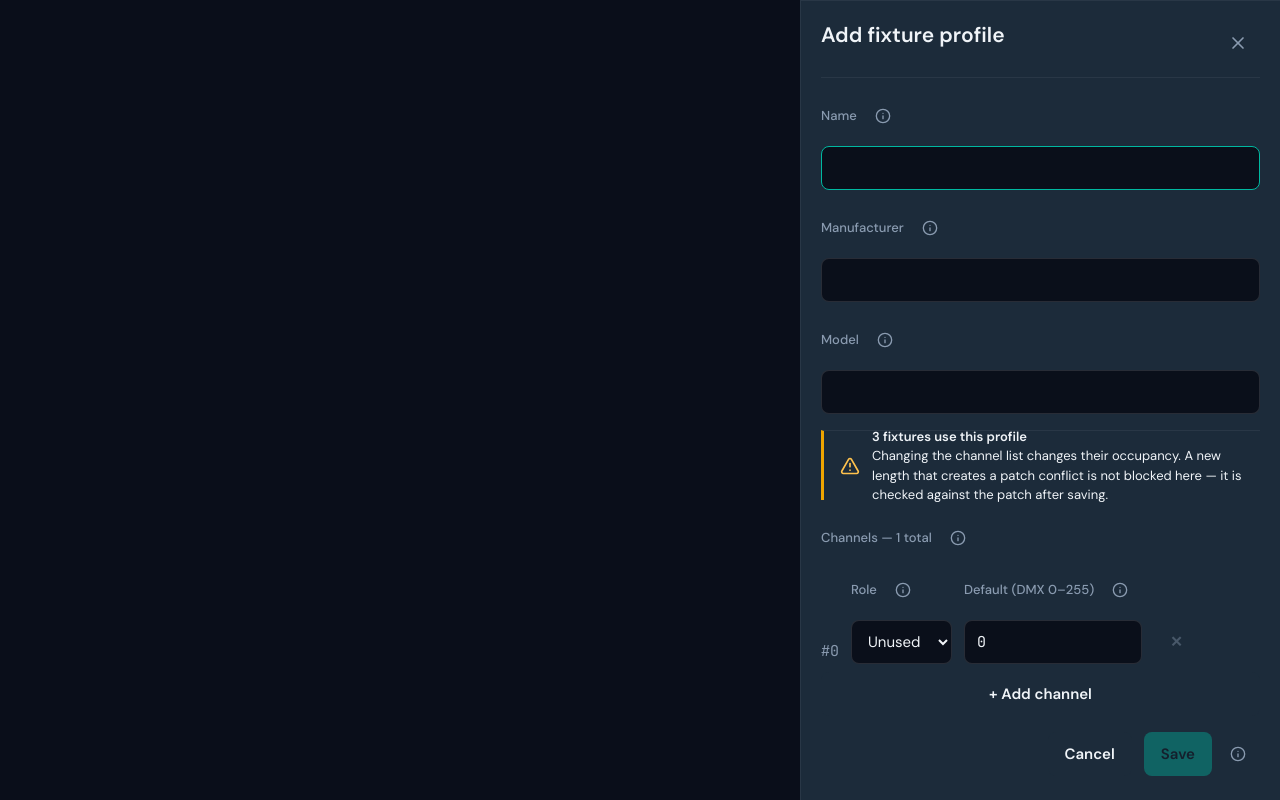
it: ProfileEditor role vocabulary (§15.9) › warns without blocking when fixtures already use the profile
Check: the text "3 fixtures use this profile" is shown, box [872, 428, 1027, 444]
Type "Moving Head" into the field labelled "Name".
click(1040, 168); type("Moving Head")  # box [821, 146, 1260, 190]
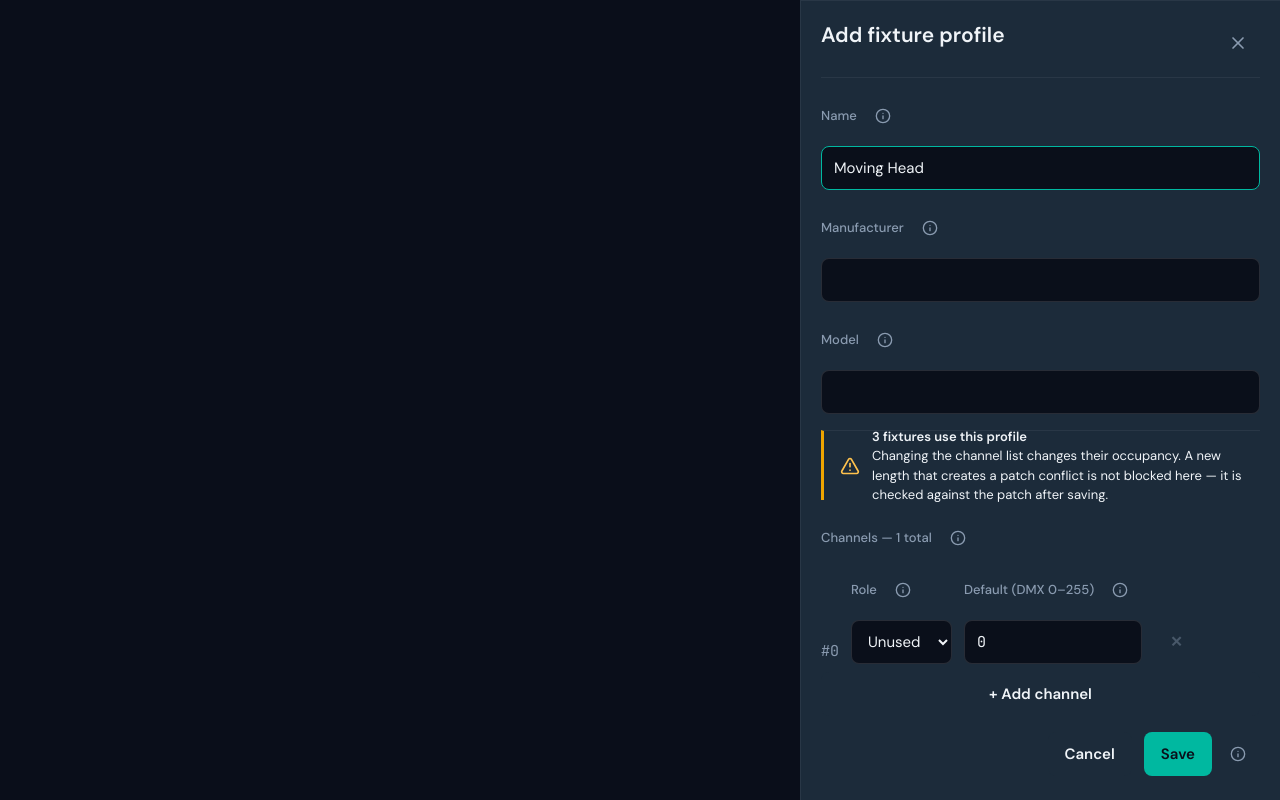
Check: the button "Save" is enabled, box [1144, 732, 1212, 776]
